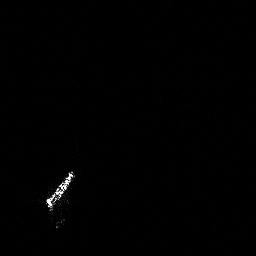ship: (42, 169, 77, 231)
